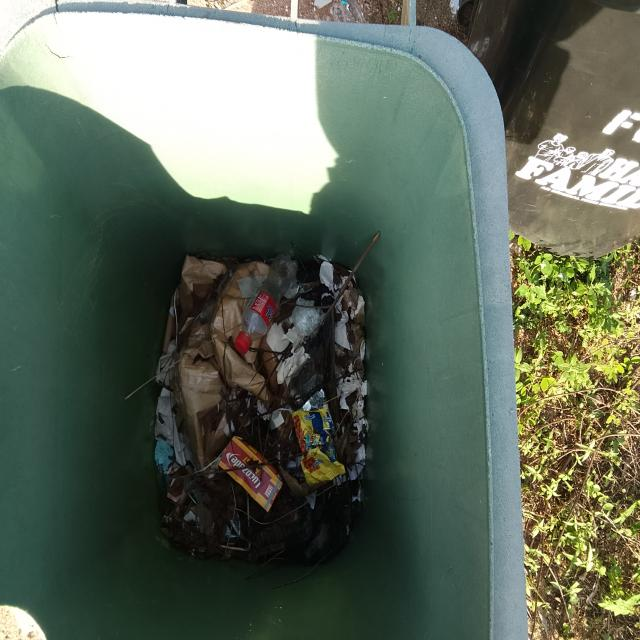half-full: (0, 15, 524, 640)
